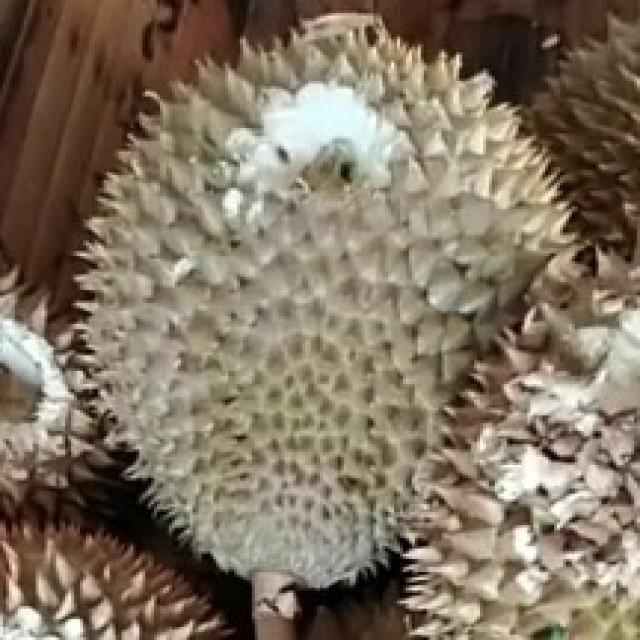defective: (73, 25, 584, 609)
